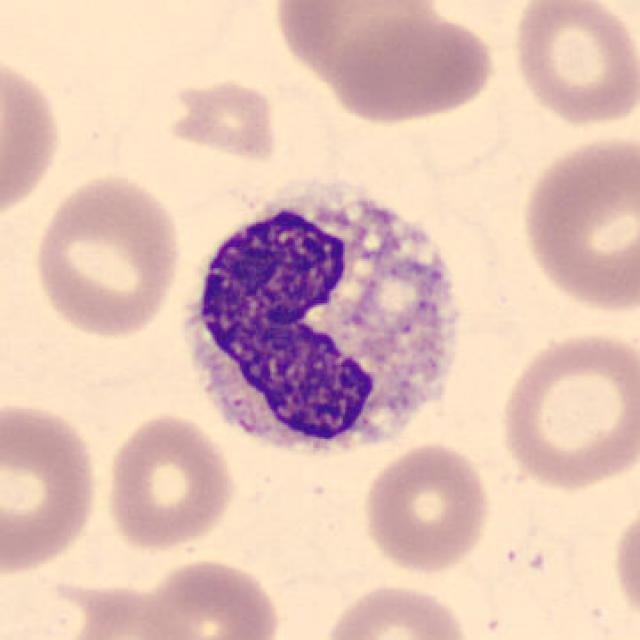Neutrophil: (165, 167, 480, 478)
RBC: (28, 169, 186, 342), (494, 326, 638, 494), (514, 129, 638, 317), (322, 3, 499, 127), (101, 409, 240, 554), (357, 437, 496, 577), (0, 395, 105, 578), (504, 0, 638, 130), (268, 0, 441, 85), (136, 553, 284, 640), (0, 49, 66, 228), (160, 74, 283, 166), (320, 578, 475, 640), (44, 582, 196, 640), (608, 498, 640, 630)
